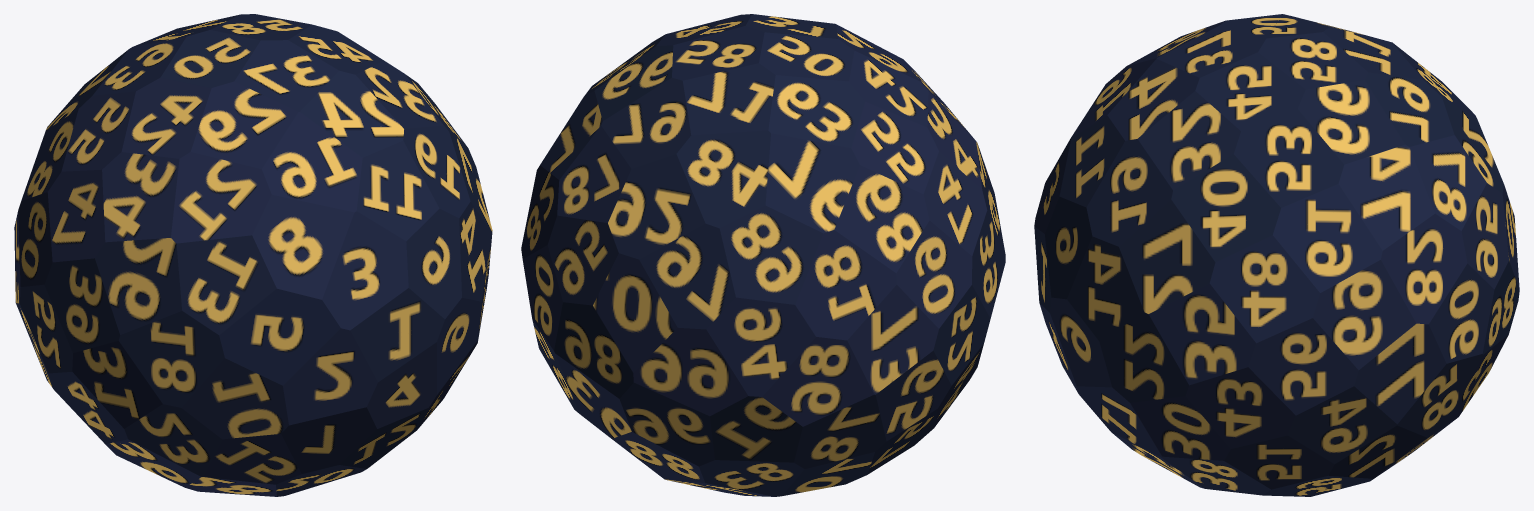
Rendered from D100_Numbered.obj.
3 views of the same model, side by side, from view 1: azimuth 30°, elevation 25°; view 2: azimuth 150°, elevation 25°; view 3: azimuth 270°, elevation 25° (orthographic).
Parts seen in each view (by area): view 1: D100_Numbered; view 2: D100_Numbered; view 3: D100_Numbered.
Part boxes in pixels (<box>): D100_Numbered: <box>14,14,492,496</box>; D100_Numbered: <box>521,14,1005,496</box>; D100_Numbered: <box>1034,14,1519,496</box>.
Bounding box in the file's own units: 2.04 × 2.04 × 2.05.
Materials: 1 (1 with a texture image).
